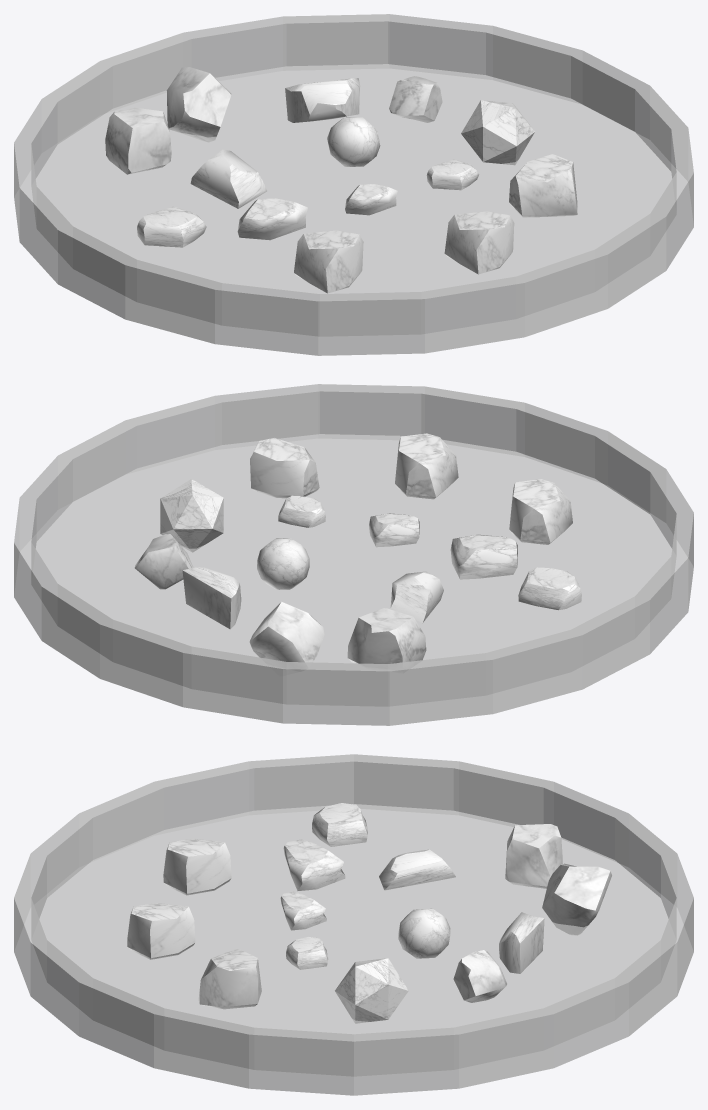
File: marble.fbx
3 renders of one model, top to bottom at view 1: azimuth 30°, elevation 25°; view 2: azimuth 150°, elevation 25°; view 3: azimuth 270°, elevation 25°, orthographic.
Parts seen in each view (by area): view 1: pCylinder2, Stone_1_Low.002, Stone_1_Low, Stone_2_Low, Stone_2_Low.001, Stone_2_Low.002, pPlatonic1, Stone_3_Low.002, Stone_3_Low.001, Stone_4_Low.002, Stone_5_Low.002, pSolid1 (+3 smaller); view 2: pCylinder2, Stone_1_Low.002, pPlatonic1, Stone_2_Low, Stone_2_Low.001, Stone_2_Low.002, Stone_1_Low, Stone_4_Low.002, Stone_3_Low.002, pSolid1, Stone_5_Low.002, Stone_1_Low.001 (+3 smaller); view 3: pCylinder2, Stone_1_Low, pPlatonic1, Stone_2_Low.002, Stone_2_Low.001, Stone_1_Low.002, Stone_2_Low, Stone_4_Low.002, pSolid1, Stone_3_Low.001, Stone_3_Low.002, Stone_1_Low.001 (+3 smaller).
Boxes of the visible parts, x1,y1,x2,y2 form: pCylinder2: (14,14,693,355); Stone_1_Low.002: (105,107,171,174); Stone_1_Low: (166,67,231,141); Stone_2_Low: (509,154,577,217); Stone_2_Low.001: (444,211,514,274); Stone_2_Low.002: (294,230,363,293); pPlatonic1: (461,100,534,164); Stone_3_Low.002: (285,78,360,122); Stone_3_Low.001: (190,149,266,208); Stone_4_Low.002: (237,198,307,240); Stone_5_Low.002: (137,206,206,247); pSolid1: (327,117,380,166); pCylinder2: (14,384,693,725); Stone_1_Low.002: (347,607,426,663); pPlatonic1: (160,479,223,552); Stone_2_Low: (250,438,319,498); Stone_2_Low.001: (395,433,458,499); Stone_2_Low.002: (509,479,572,544); Stone_1_Low: (249,602,324,662); Stone_4_Low.002: (450,534,517,579); Stone_3_Low.002: (182,567,241,629); pSolid1: (257,538,309,589); Stone_5_Low.002: (518,567,581,610); Stone_1_Low.001: (134,534,193,589); pCylinder2: (14,754,693,1095); Stone_1_Low: (542,863,611,934); pPlatonic1: (335,958,408,1023); Stone_2_Low.002: (163,838,231,895); Stone_2_Low.001: (127,903,195,959); Stone_1_Low.002: (505,824,562,888); Stone_2_Low: (198,948,261,1009); Stone_4_Low.002: (283,839,345,890); pSolid1: (398,908,450,958); Stone_3_Low.001: (379,849,455,890); Stone_3_Low.002: (499,912,544,973); Stone_1_Low.001: (453,950,506,1002).
Size of the model in its own units: 619 by 70.19 by 619.
2 materials, 1 textured.
